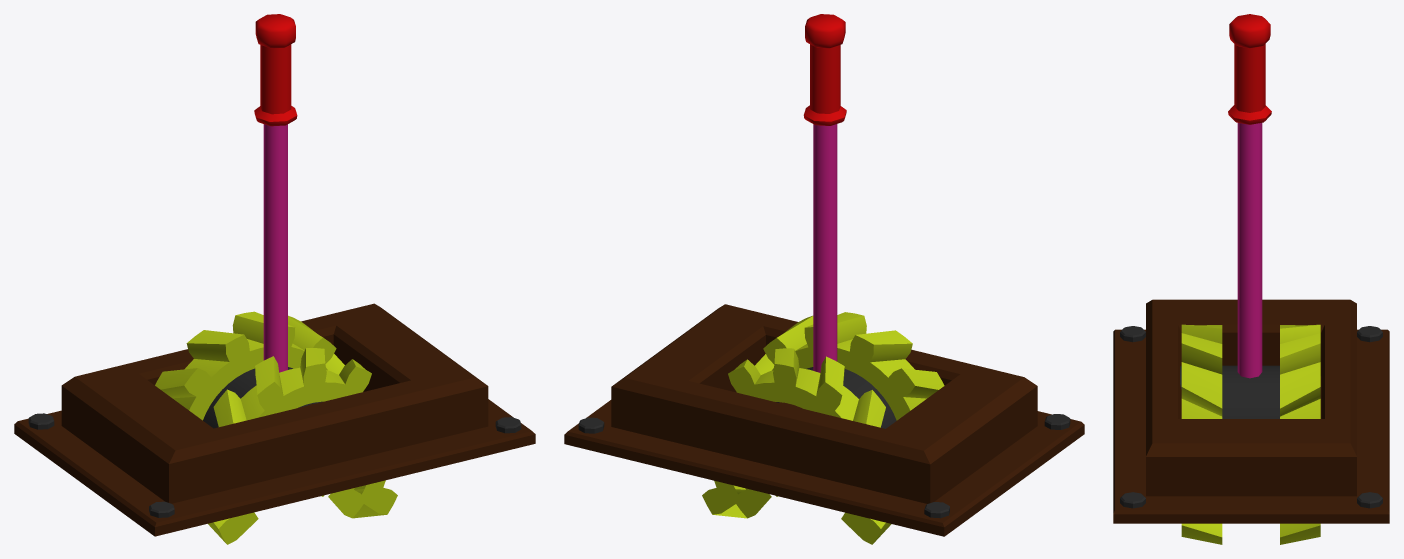
3 renders of one model, left to right at view 1: azimuth 30°, elevation 25°; view 2: azimuth 150°, elevation 25°; view 3: azimuth 270°, elevation 25°, orthographic.
Visible parts, largest first — view 1: Box, Lever and gears (×4), Bolts; view 2: Box, Lever and gears (×4), Bolts; view 3: Box, Lever and gears (×4), Bolts.
Boxes of the visible parts, <box> form: Box: <box>14,303,535,536</box>; Lever and gears (×4): <box>155,14,397,544</box>; Bolts: <box>28,413,521,517</box>; Box: <box>564,304,1084,536</box>; Lever and gears (×4): <box>702,14,944,544</box>; Bolts: <box>578,414,1070,518</box>; Box: <box>1113,299,1389,523</box>; Lever and gears (×4): <box>1180,14,1320,544</box>; Bolts: <box>1120,326,1382,508</box>.
Size of the model in its own units: 113 by 143 by 72.33.
